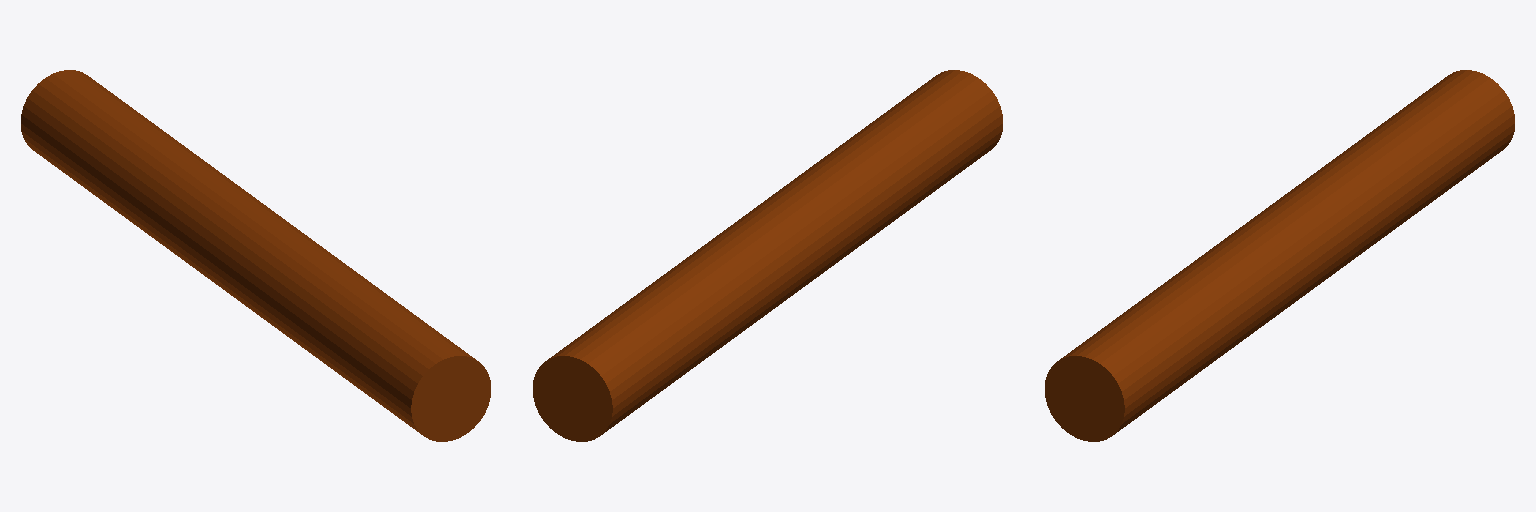
robot.urdf — cylinder:
<?xml version="1.0" ?>
<!-- =================================================================================== -->
<!-- |    This document was autogenerated by xacro from cylinder.xacro                 | -->
<!-- |    EDITING THIS FILE BY HAND IS NOT RECOMMENDED                                 | -->
<!-- =================================================================================== -->
<robot name="cylinder">
  <link name="world"/>
  <link name="base">
    <visual>
      <origin rpy="1.57079633 0 0" xyz="0 0 0"/>
      <geometry>
        <cylinder length="7.07106781185" radius="0.42"/>
      </geometry>
      <material name="cylinder_material">
        <color rgba="0.545 0.271 0.075 1.0"/>
        <texture filename="../textures/tree_bark.jpg"/>
      </material>
    </visual>
    <collision>
      <origin rpy="1.57079633 0 0" xyz="0 0 0"/>
      <geometry>
        <cylinder length="7.07106781185" radius="0.42"/>
      </geometry>
    </collision>
    <inertial>
      <origin rpy="0 0 0" xyz="0 0 0"/>
      <mass value="1"/>
      <inertia ixx="4.2107666666484285" ixy="0.0" ixz="0.0" iyy="4.2107666666484285" iyz="0.0" izz="24.999999999890573"/>
    </inertial>
  </link>
  <joint name="base_joint" type="fixed">
    <parent link="world"/>
    <child link="base"/>
    <origin rpy="0 0 0" xyz="0.0 0.0 0.0"/>
  </joint>
</robot>

--- What the picture shows (computed from the rendered views, not written in the file) ---
Views: 3 orthographic renders of the robot side by side, from view 1: azimuth 30°, elevation 25°; view 2: azimuth 150°, elevation 25°; view 3: azimuth 330°, elevation 25°.
Robot: cylinder — 2 links, 1 joints (1 fixed); root link world; default pose: all joints at 0.
Visible links, largest first — view 1: base; view 2: base; view 3: base.
Boxes of the visible links, x1,y1,x2,y2 form: base: (21, 70, 490, 441); base: (533, 70, 1002, 441); base: (1045, 70, 1514, 441).
Size in the robot's own frame: 0.84 by 7.07 by 0.84 metres.
Geometry: primitives only (box / cylinder / sphere), no mesh files.
